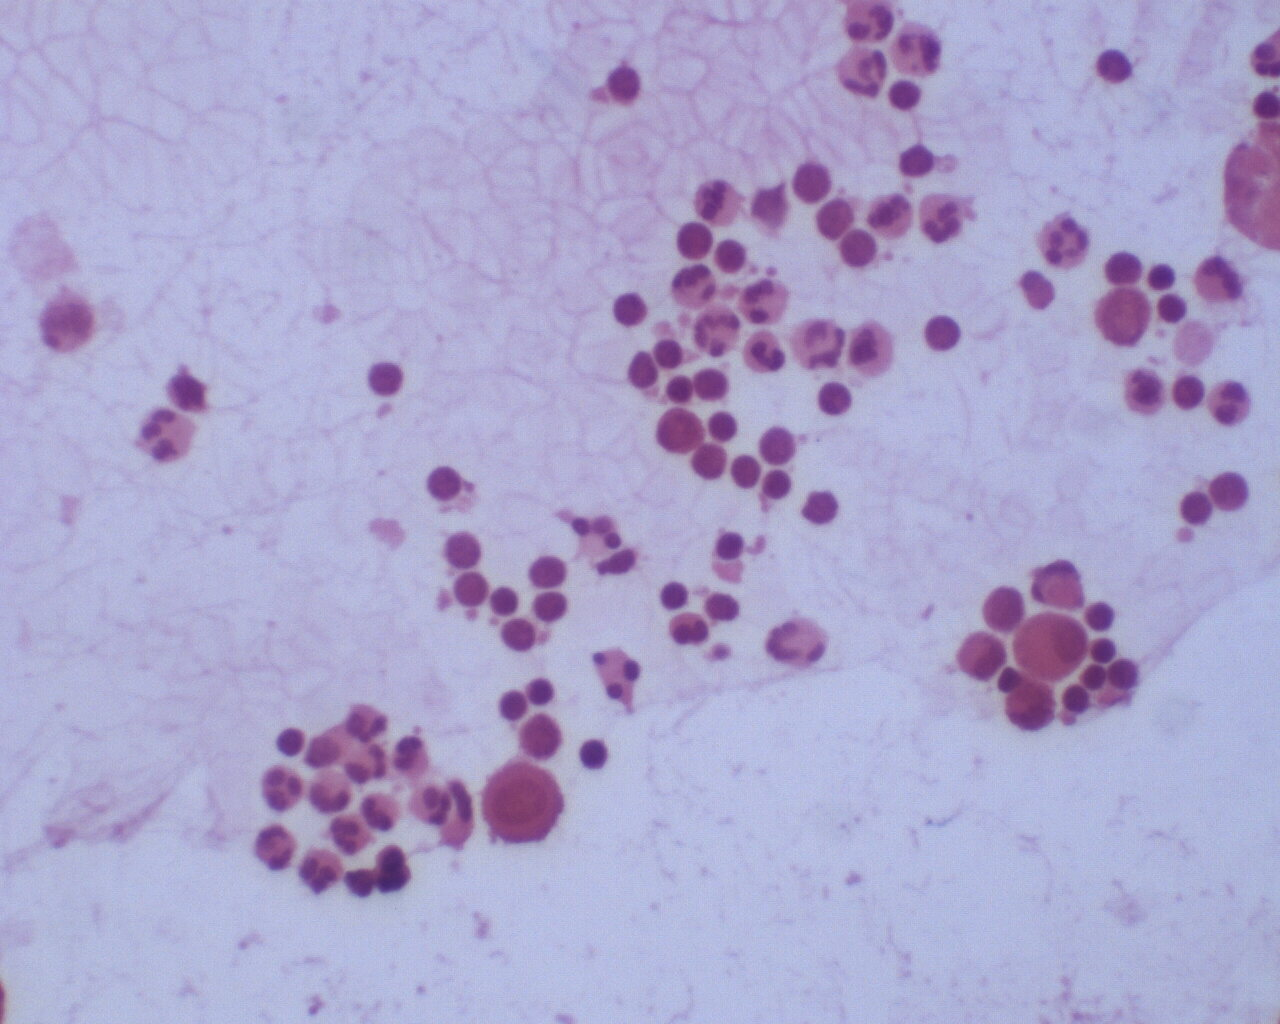ab: (1091, 282, 1156, 348), (654, 403, 706, 457)
lymph: (360, 352, 415, 406), (1089, 39, 1136, 89), (921, 308, 968, 356), (599, 61, 644, 109), (531, 587, 573, 626), (709, 526, 751, 564), (883, 77, 927, 112), (705, 408, 744, 446), (574, 737, 612, 774), (427, 464, 463, 504), (489, 581, 525, 619), (759, 467, 796, 503), (657, 579, 693, 613), (525, 676, 561, 709), (1058, 683, 1092, 717), (1146, 259, 1180, 293), (1089, 636, 1119, 665)
meso: (478, 758, 569, 850), (1011, 607, 1091, 680)
neutro: (735, 273, 796, 333), (692, 174, 754, 234), (1033, 207, 1092, 271), (138, 408, 201, 465), (1198, 371, 1257, 430), (913, 189, 968, 246), (297, 844, 347, 898), (259, 761, 308, 814), (845, 1, 898, 47), (741, 330, 789, 377), (331, 810, 375, 858), (388, 735, 432, 781)
